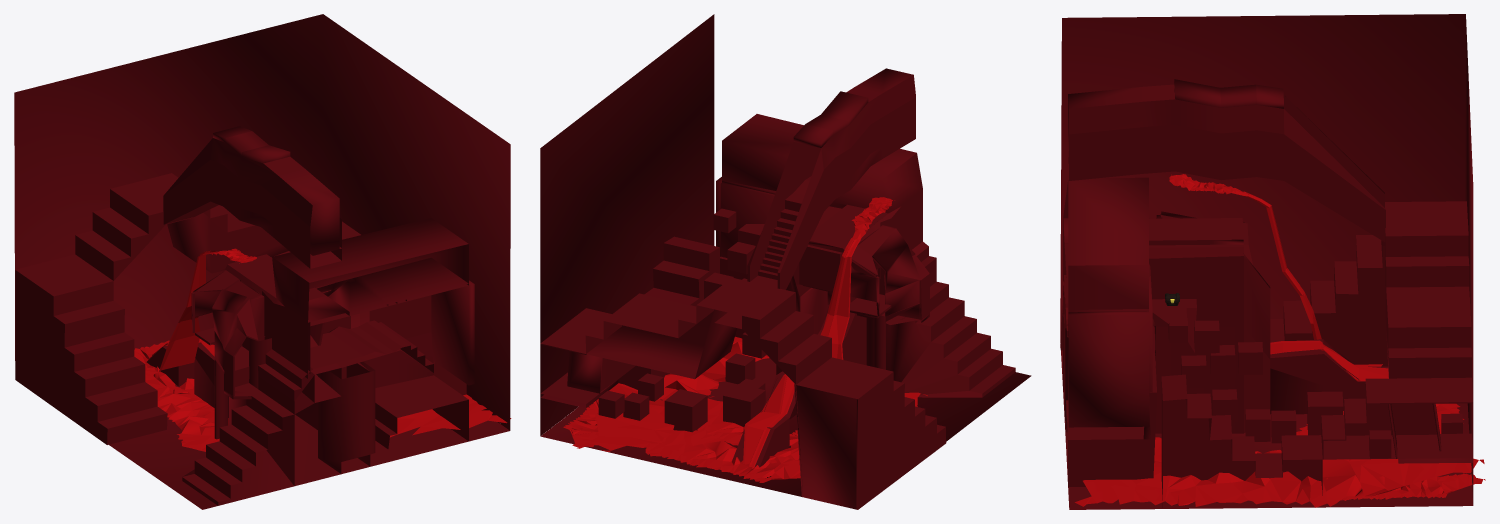
The model's file is saryeongCastle.fbx.
3 renders of one model, left to right at view 1: azimuth 30°, elevation 25°; view 2: azimuth 150°, elevation 25°; view 3: azimuth 270°, elevation 25°, orthographic. The views are drawn at different scales.
Parts seen in each view (by area): view 1: Cube.045, Cube.002, Plane.012, Plane.010, Plane.011; view 2: Cube.045, Cube.002, Plane.011, Plane.014, Plane.010, Plane.013, Plane.015, Plane.016; view 3: Cube.045, Cube.002, Plane.011, Plane.010, Plane.016, Plane.013.
Part boxes in pixels (x1,y1,x2,y2): Cube.045: (15, 126, 474, 505); Cube.002: (14, 14, 510, 509); Plane.012: (146, 382, 228, 451); Plane.010: (159, 248, 256, 371); Plane.011: (390, 394, 511, 437); Cube.045: (540, 68, 1015, 509); Cube.002: (540, 14, 1031, 496); Plane.011: (590, 336, 769, 451); Plane.014: (645, 430, 800, 482); Plane.010: (820, 197, 894, 359); Plane.013: (743, 374, 794, 468); Plane.015: (697, 396, 799, 463); Plane.016: (563, 404, 598, 448); Cube.045: (1060, 79, 1473, 507); Cube.002: (1060, 14, 1473, 509); Plane.011: (1075, 437, 1484, 507); Plane.010: (1169, 174, 1321, 339); Plane.016: (1326, 473, 1485, 500); Plane.013: (1270, 340, 1388, 381).
Size of the model in its own units: 4036 by 3392 by 4055.
